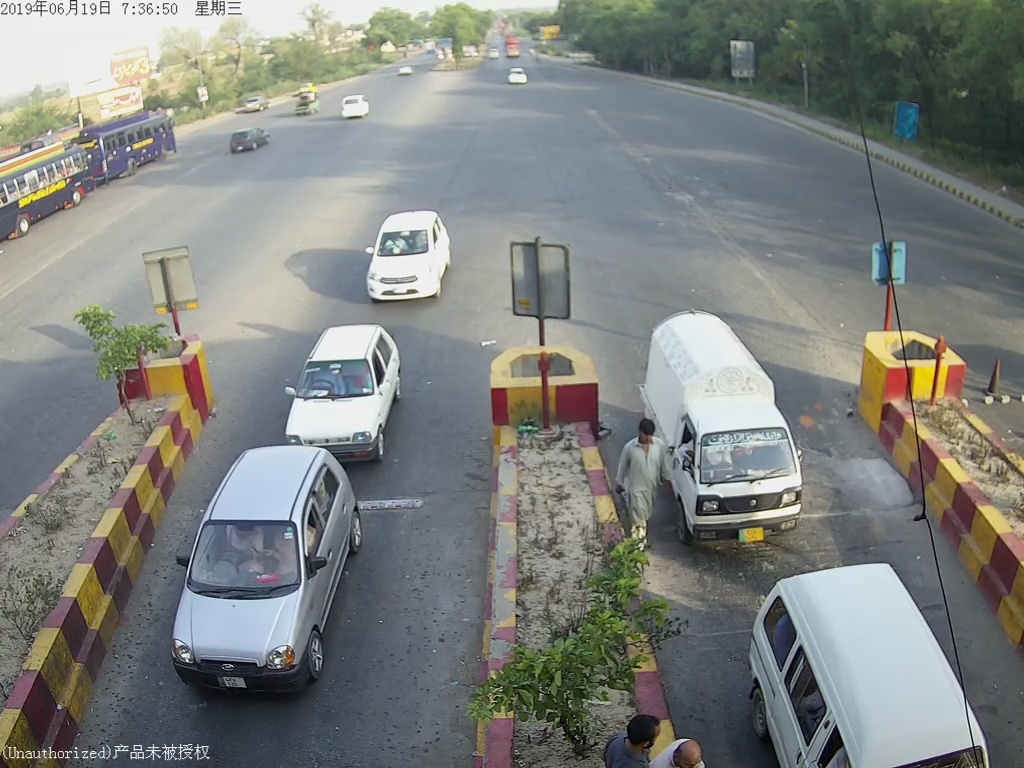Cat-1: (172, 443, 366, 696), (639, 312, 811, 543), (286, 320, 396, 460), (360, 206, 459, 302)
